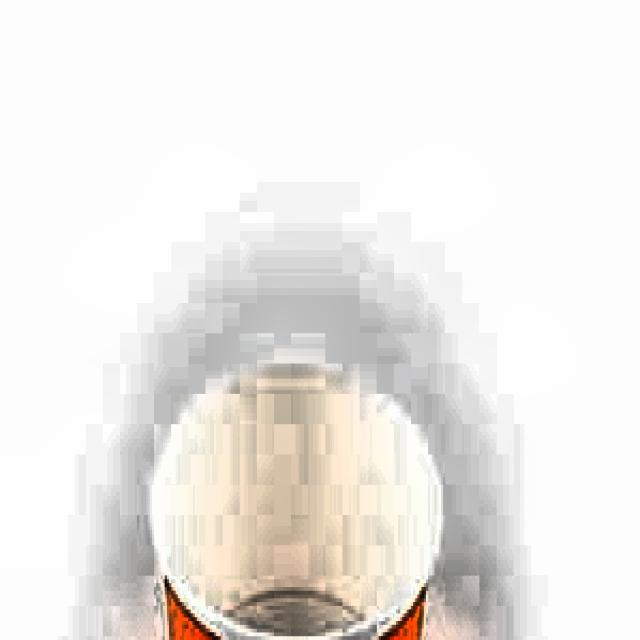Cup: (126, 344, 451, 640)
